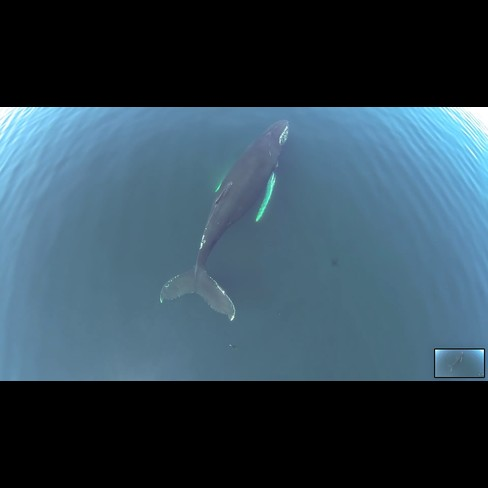hump: (148, 117, 293, 324)
